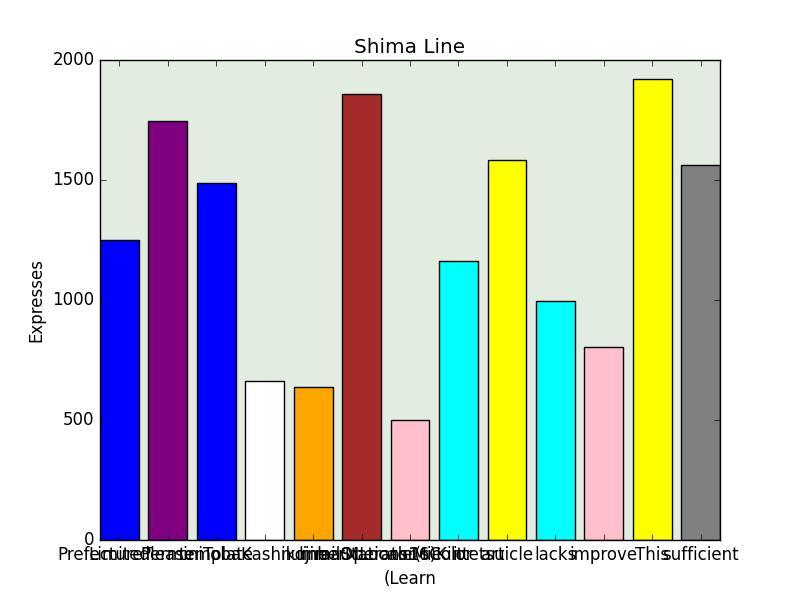axis: (29, 52, 94, 548)
rectangle: (632, 79, 672, 540), (342, 94, 381, 540), (148, 121, 188, 540), (681, 165, 720, 540), (488, 160, 526, 540), (197, 183, 236, 540), (100, 240, 139, 540), (439, 261, 478, 540), (536, 301, 575, 540), (584, 347, 624, 540), (245, 381, 284, 540), (294, 387, 332, 540), (390, 420, 430, 540)
